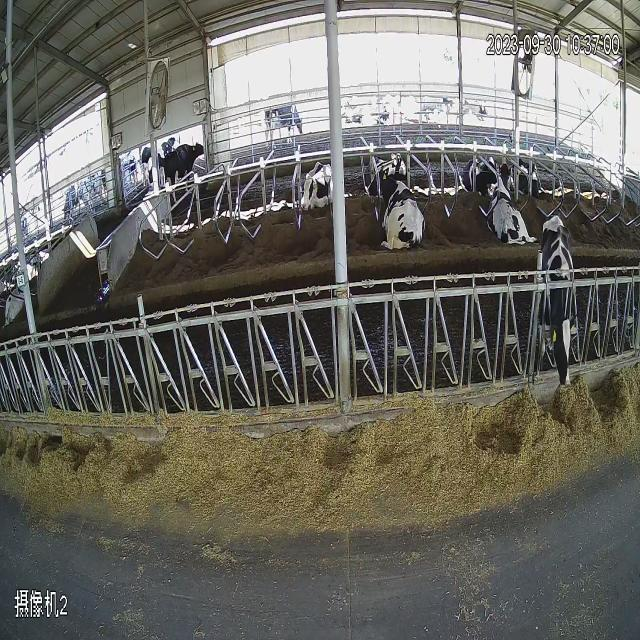feeding: (532, 181, 606, 412)
lying down: (280, 156, 358, 234), (372, 156, 429, 258), (3, 225, 53, 334), (488, 169, 534, 253)
standing: (136, 132, 218, 203), (54, 143, 108, 225), (253, 84, 318, 152)
